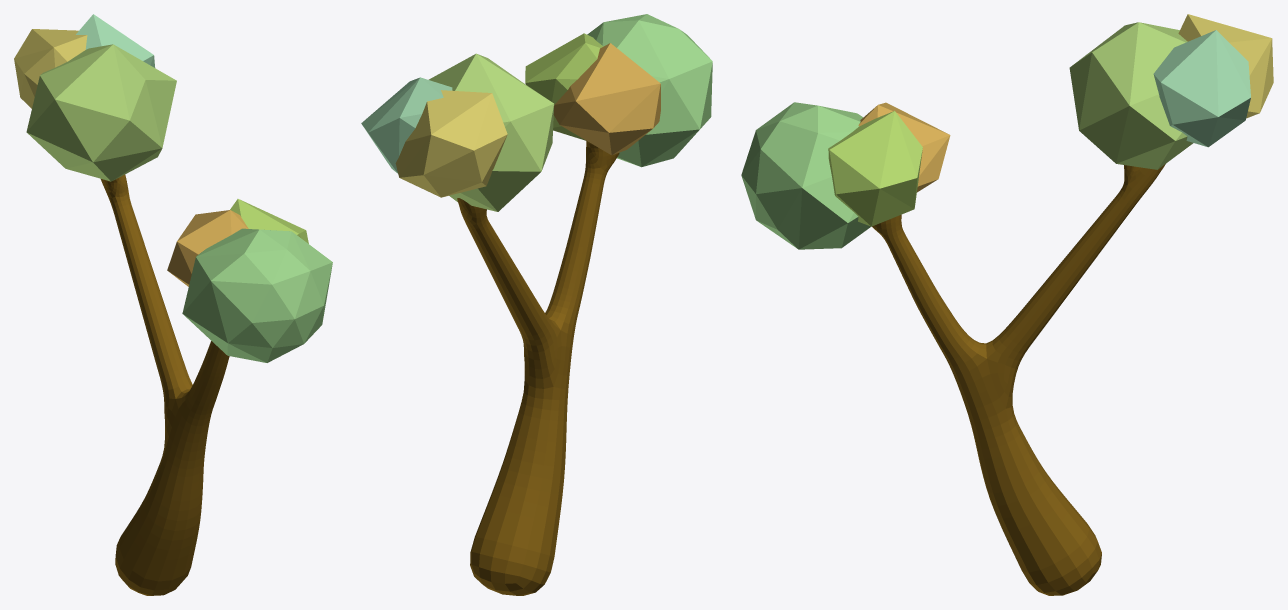
The model's file is low-poly-tree.fbx.
3 views of the same model, side by side, from view 1: azimuth 30°, elevation 25°; view 2: azimuth 150°, elevation 25°; view 3: azimuth 270°, elevation 25° (orthographic). The views are drawn at different scales.
Parts seen in each view (by area): view 1: Cube, Icosphere, Icosphere.005, Icosphere.004, Icosphere.001, Icosphere.003, Icosphere.002; view 2: Cube, Icosphere, Icosphere.004, Icosphere.005, Icosphere.001, Icosphere.003, Icosphere.002; view 3: Cube, Icosphere, Icosphere.005, Icosphere.003, Icosphere.002, Icosphere.004, Icosphere.001.
Part boxes in pixels (x1,y1,x2,y2): Cube: (100, 174, 229, 595); Icosphere: (182, 228, 332, 362); Icosphere.005: (26, 44, 176, 181); Icosphere.004: (14, 29, 87, 108); Icosphere.001: (167, 210, 248, 286); Icosphere.003: (76, 14, 155, 67); Icosphere.002: (230, 199, 308, 243); Cube: (457, 141, 619, 595); Icosphere: (587, 14, 712, 167); Icosphere.004: (395, 90, 507, 197); Icosphere.005: (428, 53, 554, 211); Icosphere.001: (553, 43, 660, 155); Icosphere.003: (361, 77, 452, 173); Icosphere.002: (525, 33, 603, 140); Cube: (872, 164, 1165, 595); Icosphere: (741, 102, 870, 249); Icosphere.005: (1069, 22, 1193, 169); Icosphere.003: (1153, 30, 1250, 147); Icosphere.002: (828, 111, 922, 226); Icosphere.004: (1178, 14, 1273, 118); Icosphere.001: (858, 102, 950, 192).
Size of the model in its own units: 120 by 406 by 344.
